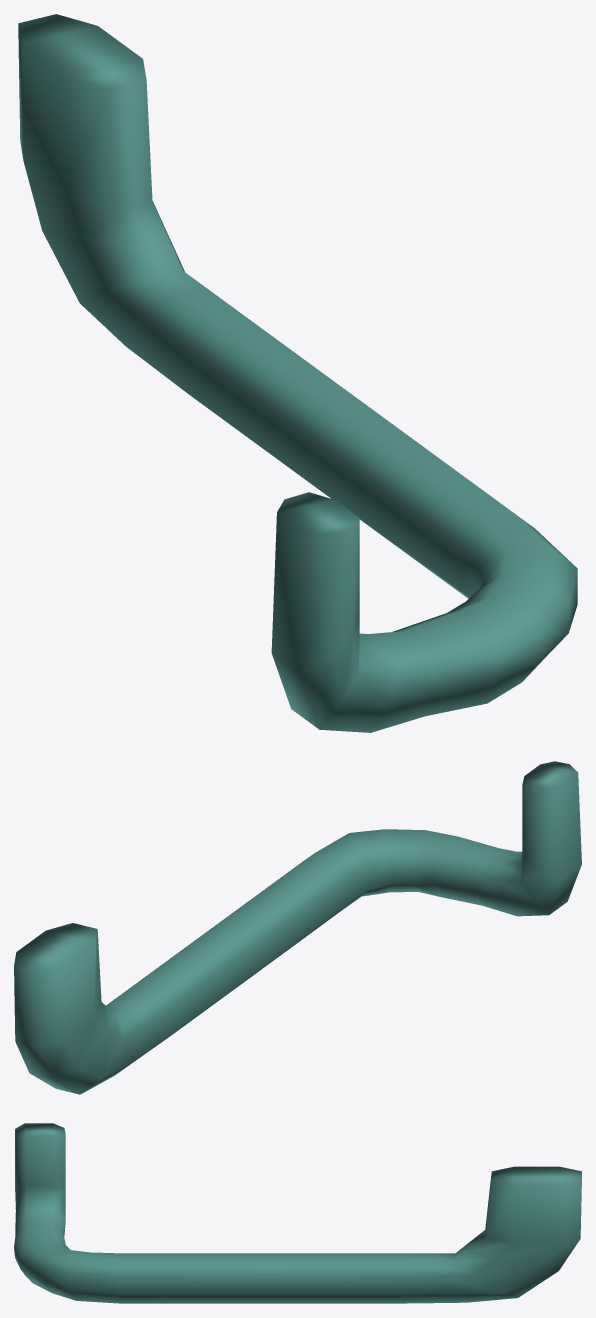
Rendered from Container_Waterpipe_5.fbx.
3 renders of one model, top to bottom at view 1: azimuth 30°, elevation 25°; view 2: azimuth 150°, elevation 25°; view 3: azimuth 270°, elevation 25°, orthographic. The views are drawn at different scales.
Visible parts, largest first — view 1: pasted__pCube46; view 2: pasted__pCube46; view 3: pasted__pCube46.
Part boxes in pixels (left/top/right/bottom): pasted__pCube46: left=18, top=14, right=577, bottom=732; pasted__pCube46: left=14, top=761, right=581, bottom=1094; pasted__pCube46: left=14, top=1123, right=581, bottom=1303.
Size of the model in its own units: 0.5747 by 0.415 by 1.7.
